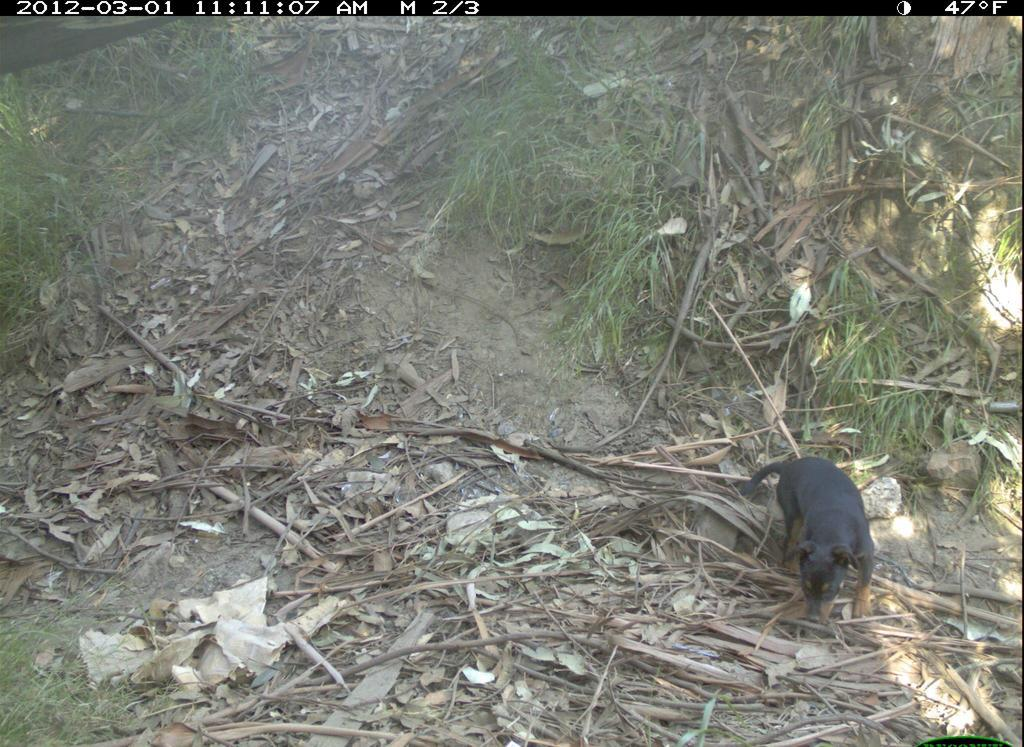dog: (737, 449, 885, 644)
